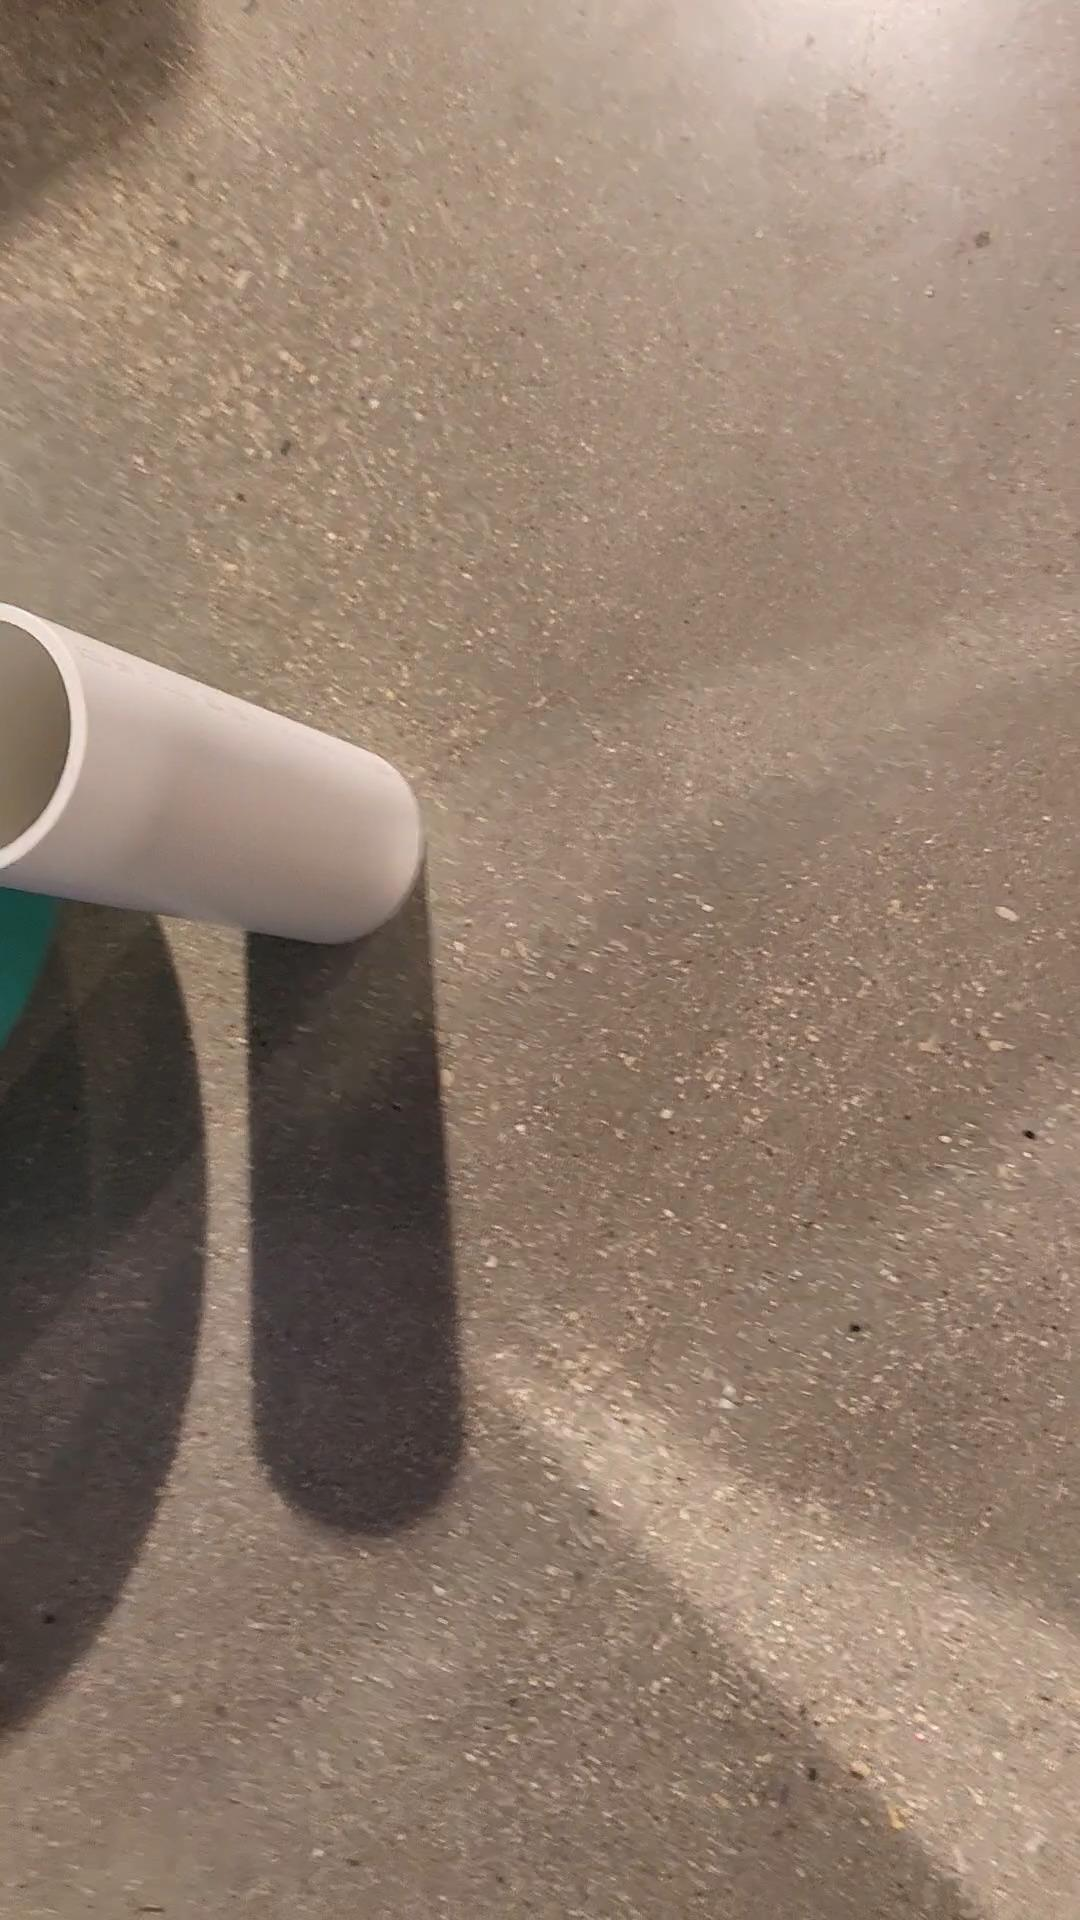coral: (0, 592, 422, 945)
